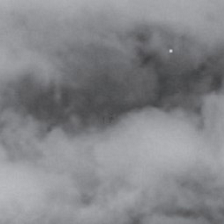Target: (168, 47, 174, 54)
